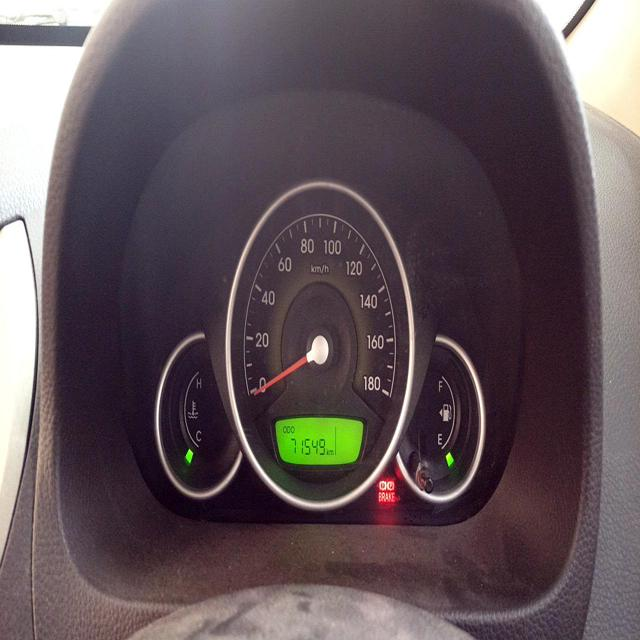odometer: (289, 430, 327, 457)
